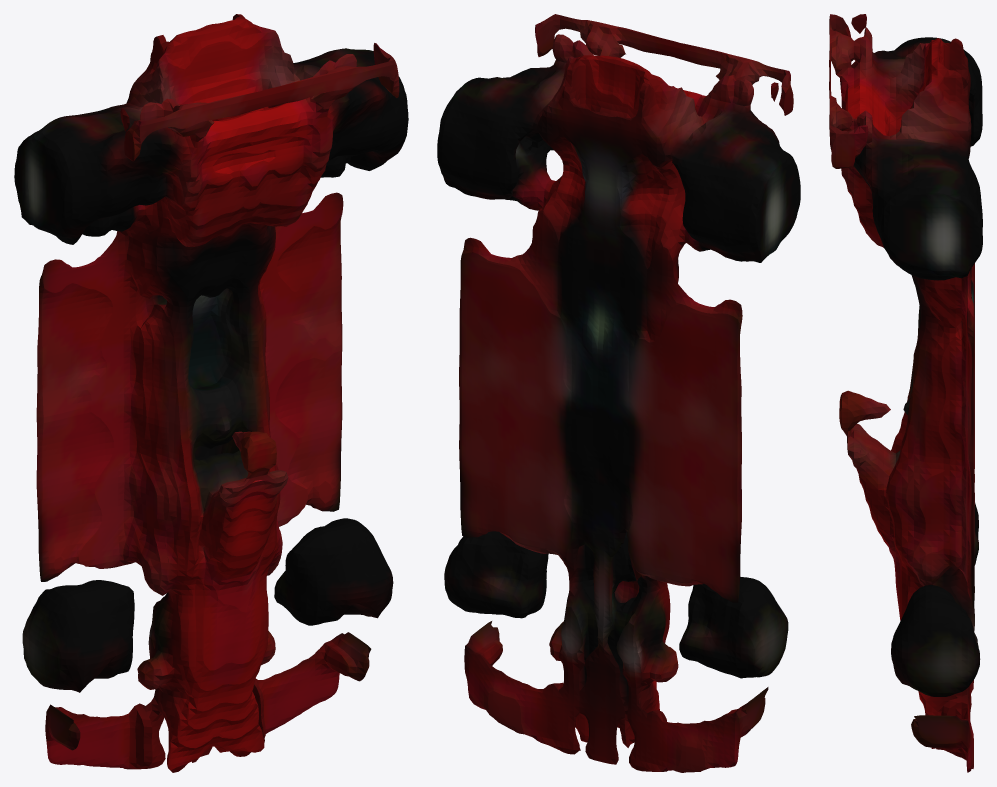
The model's file is text_a_red_f1_racing_car_0.glb.
The picture shows the model from 3 angles, left to right: view 1: azimuth 30°, elevation 25°; view 2: azimuth 150°, elevation 25°; view 3: azimuth 270°, elevation 25°; orthographic projection. The views are drawn at different scales.
Visible parts, largest first — view 1: world; view 2: world; view 3: world.
Boxes of the visible parts, box(x1,y1,x2,y2) form: world: box(14, 14, 408, 772); world: box(437, 14, 800, 772); world: box(829, 14, 982, 772).
Size of the model in its own units: 0.9566 by 1.97 by 0.3988.
